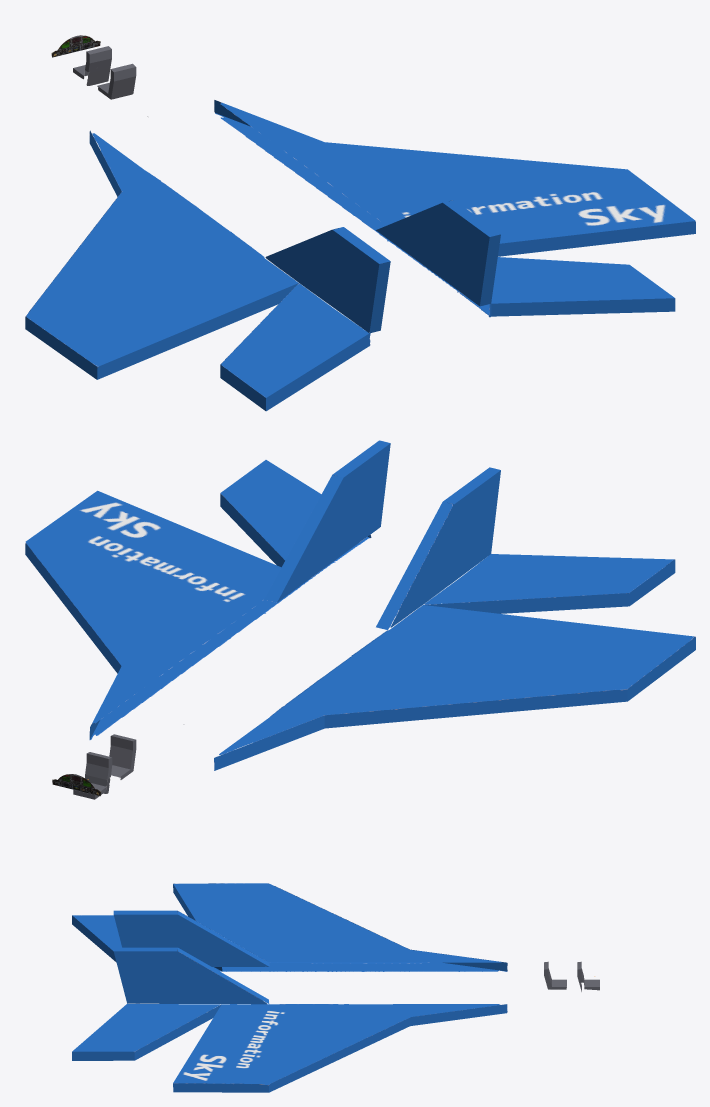
File: Plain_addk_ver4.fbx
3 views of the same model, one above another, from view 1: azimuth 30°, elevation 25°; view 2: azimuth 150°, elevation 25°; view 3: azimuth 270°, elevation 25° (orthographic). The views are drawn at different scales.
Visible parts, largest first — view 1: Plane; view 2: Plane; view 3: Plane.
Part boxes in pixels (x1,y1,x2,y2): Plane: (25,35,695,411); Plane: (25,440,695,799); Plane: (72,883,599,1092).
Size of the model in its own units: 2005 by 351 by 2877.
